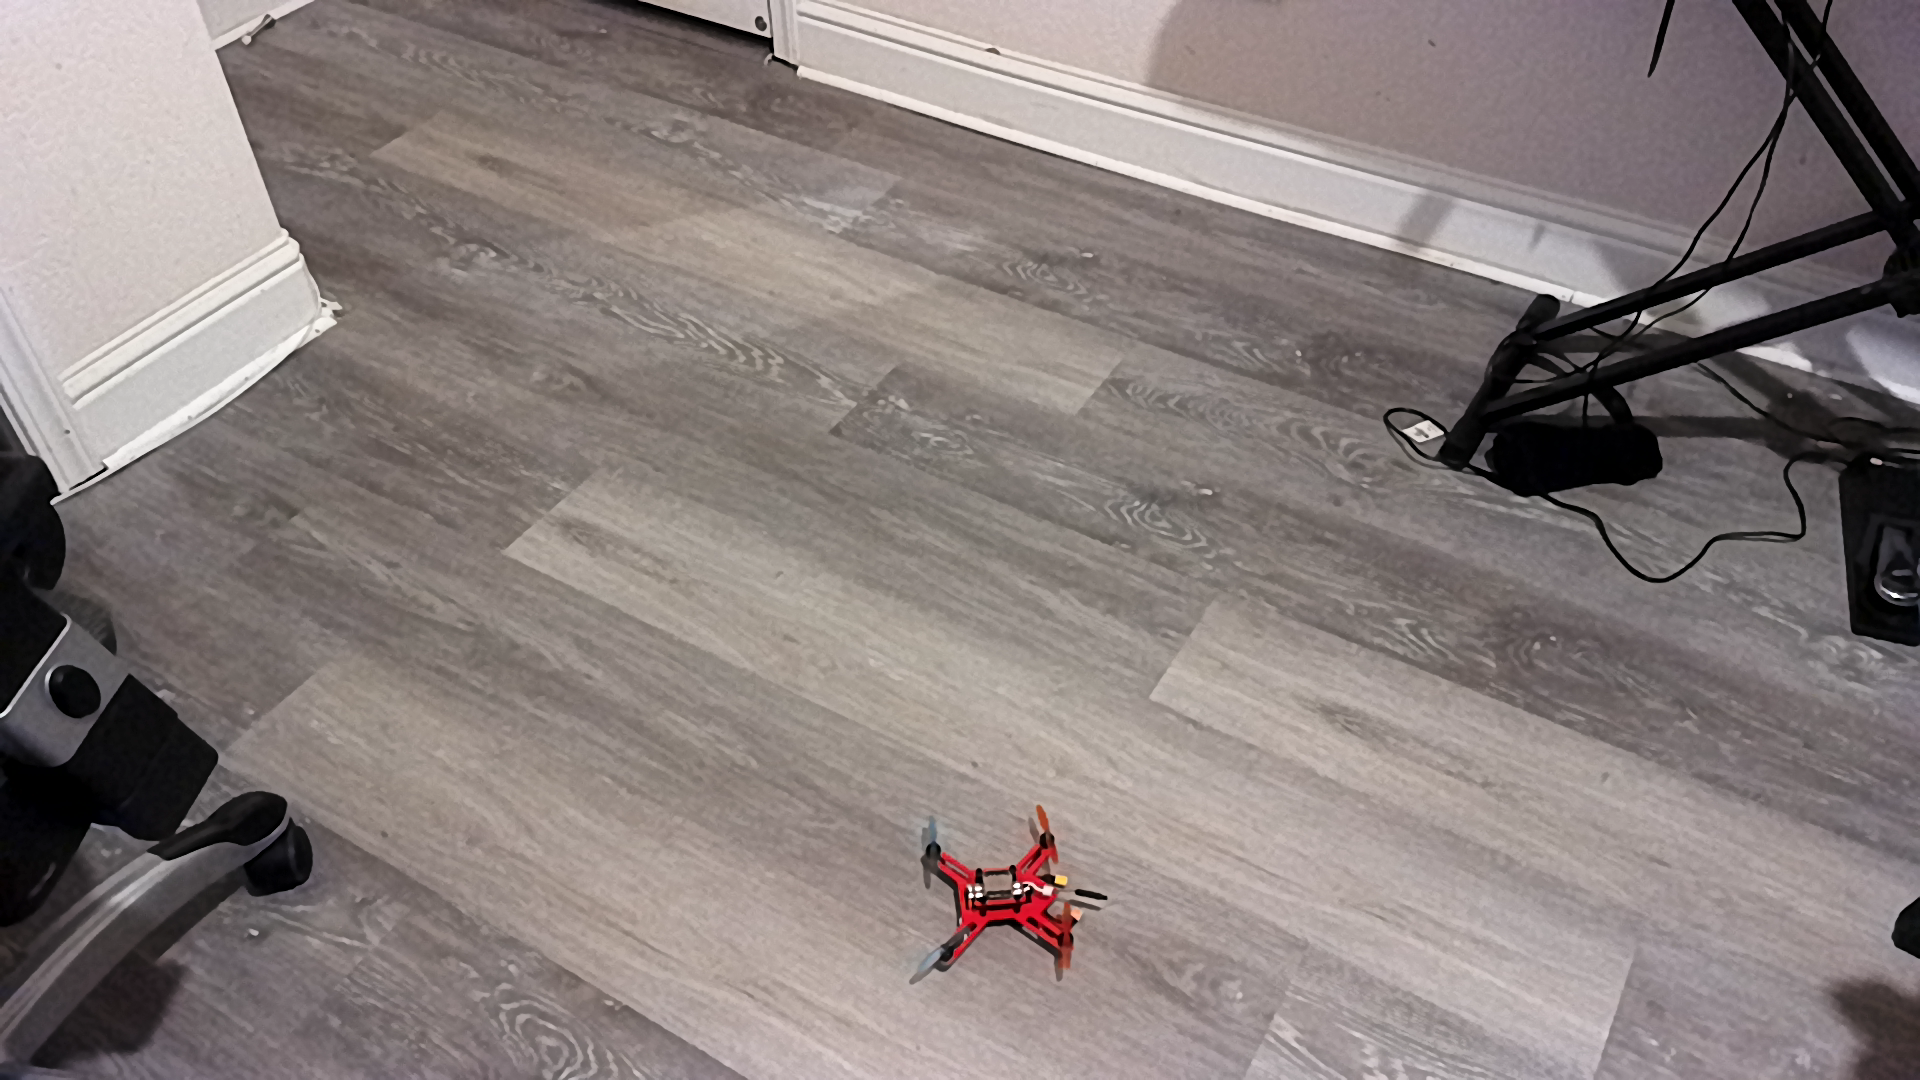drone: (911, 802, 1116, 986)
